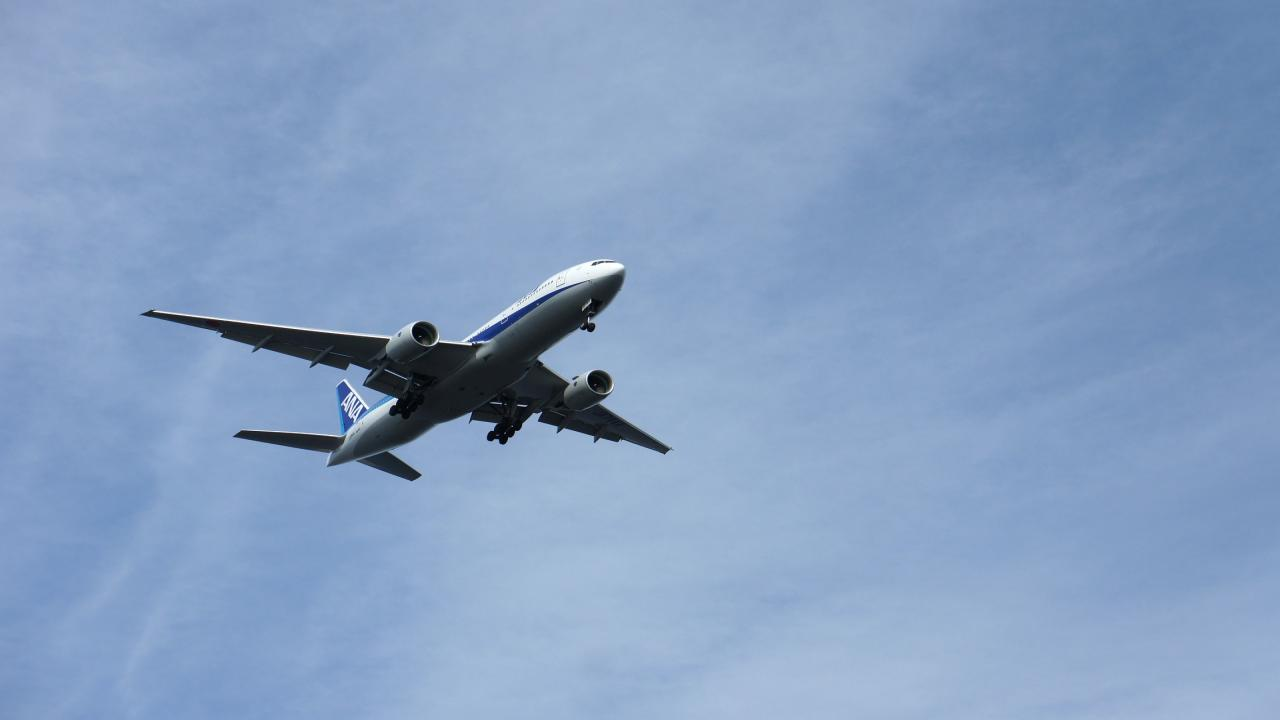Airplane: (121, 243, 698, 498)
